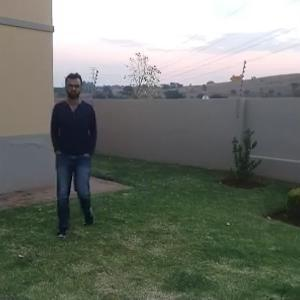follow: (46, 69, 100, 227)
